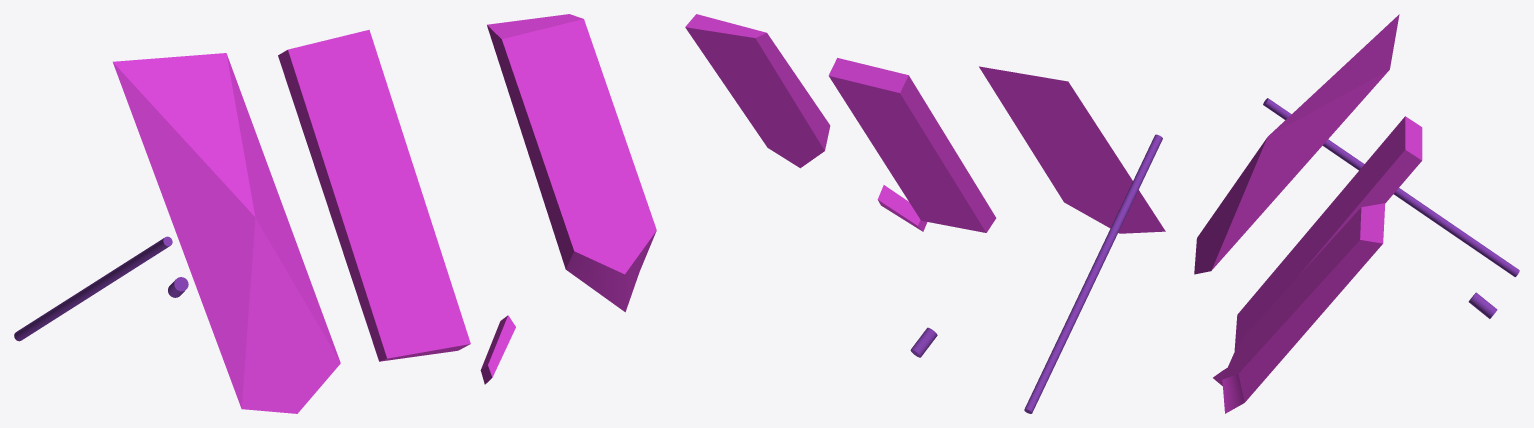
Rendered from Umbrella Puzzle.fbx.
3 views of the same model, side by side, from view 1: azimuth 30°, elevation 25°; view 2: azimuth 150°, elevation 25°; view 3: azimuth 270°, elevation 25° (orthographic). The views are drawn at different scales.
Visible parts, largest first — view 1: pPyramid1, pCube3, pCube2, pCylinder2, pCube4; view 2: pCube3, pPyramid1, pCube2, pCylinder2, pCube4; view 3: pPyramid1, pCube2, pCube3, pCylinder2, pCylinder4.
Boxes of the visible parts, x1,y1,x2,y2 form: pPyramid1: (113, 53, 340, 413); pCube3: (278, 29, 470, 361); pCube2: (487, 14, 656, 312); pCylinder2: (14, 236, 172, 341); pCube4: (480, 315, 515, 384); pCube3: (828, 58, 996, 232); pPyramid1: (979, 66, 1165, 233); pCube2: (685, 14, 830, 168); pCylinder2: (1024, 134, 1162, 413); pCube4: (877, 185, 927, 231); pPyramid1: (1194, 14, 1399, 274); pCube2: (1222, 203, 1385, 413); pCube3: (1234, 116, 1422, 350); pCylinder2: (1263, 98, 1519, 276); pCylinder4: (1468, 292, 1497, 318).
Size of the model in its own units: 5.85 by 3.79 by 4.1.
